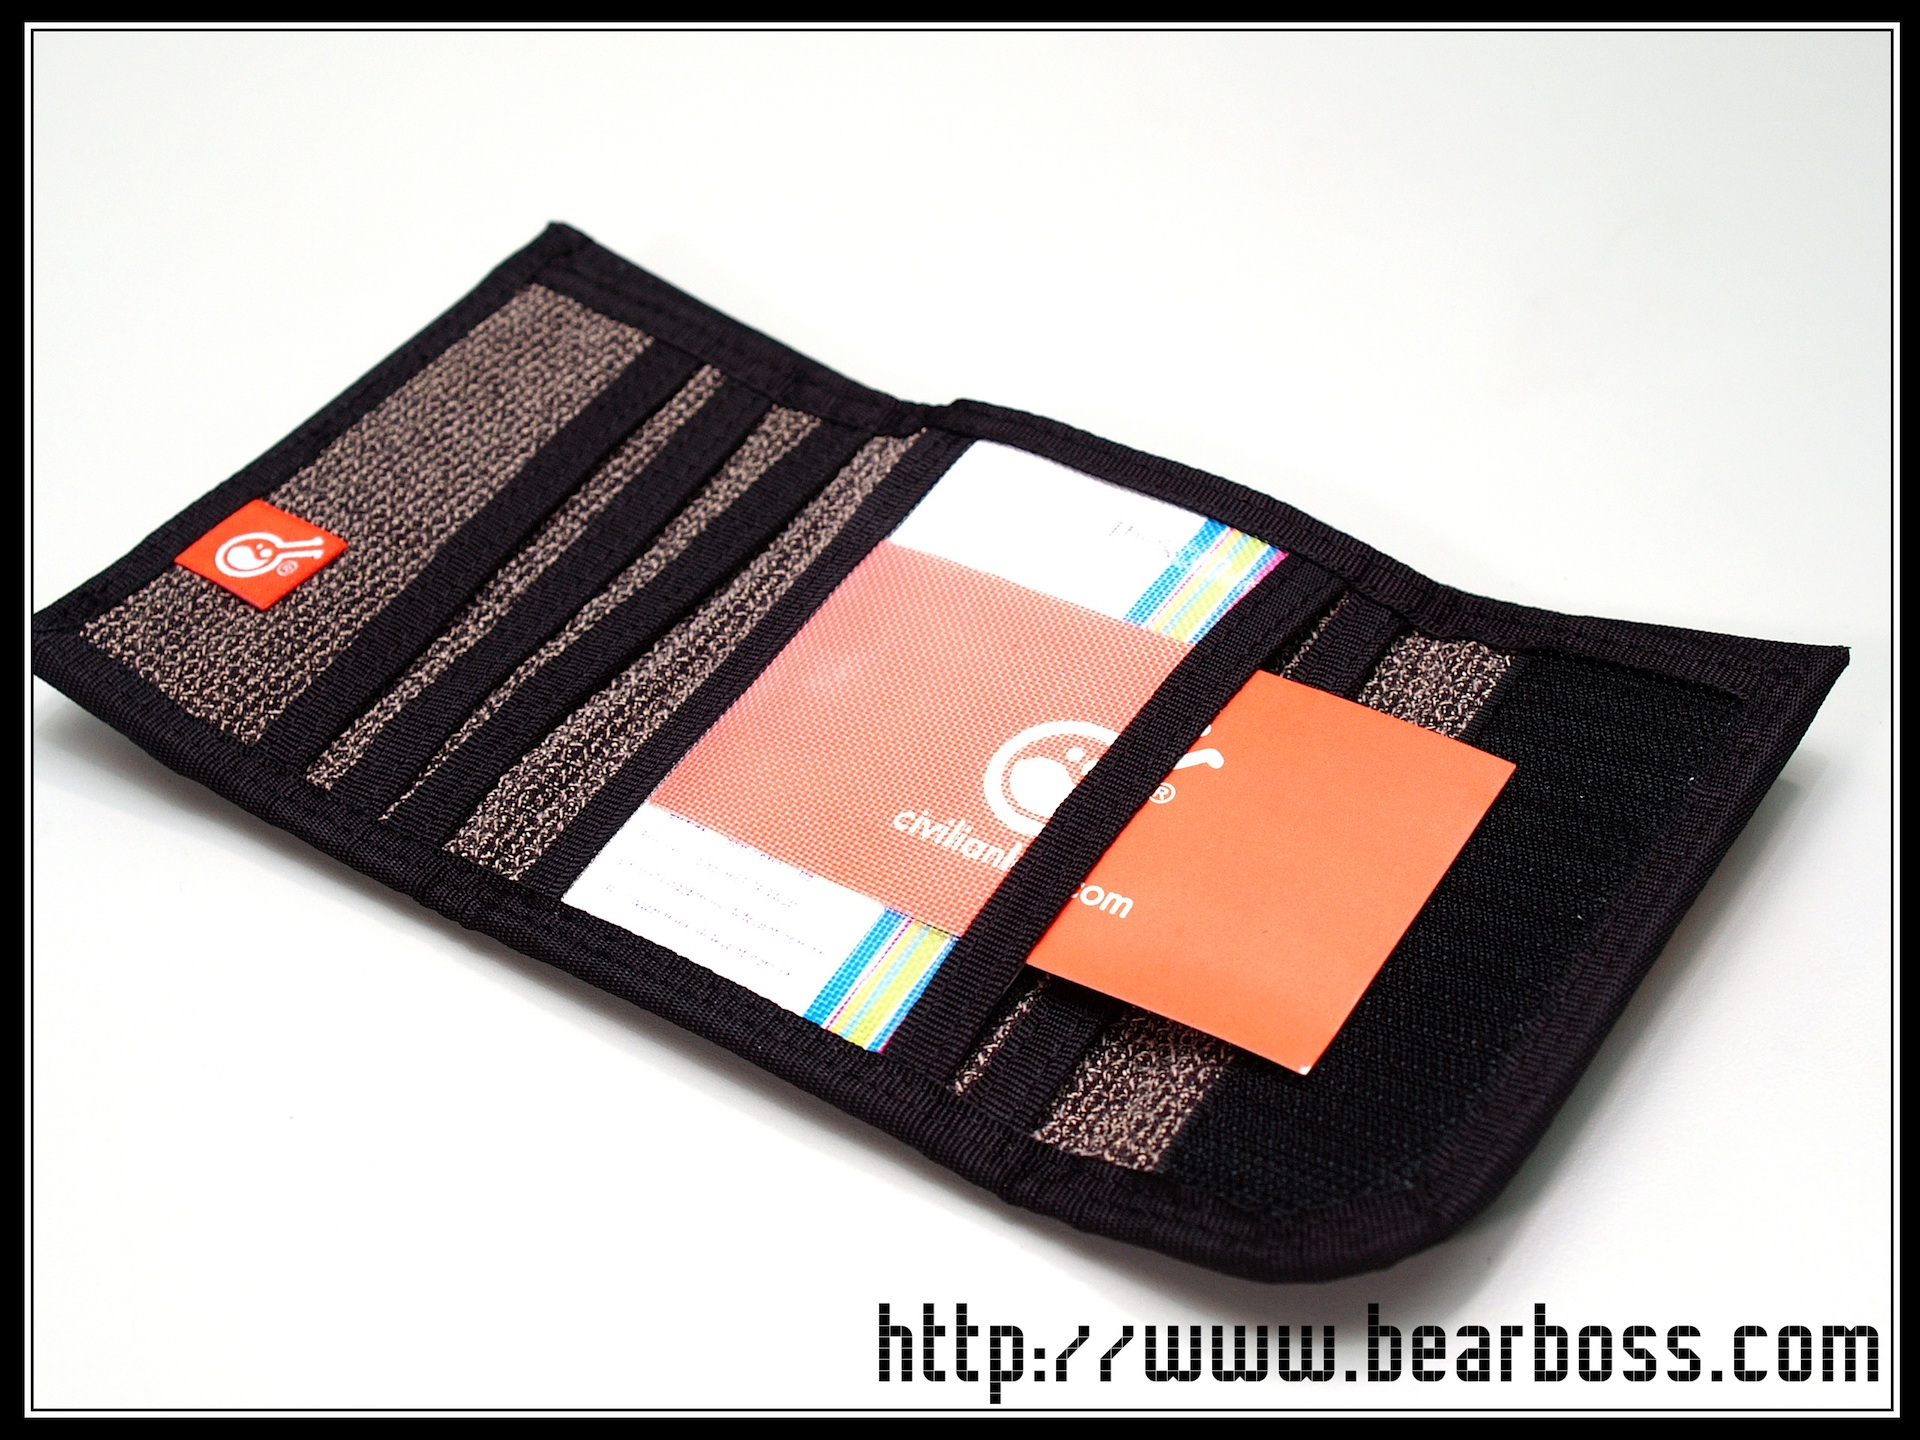monedero: (32, 213, 1857, 1290)
